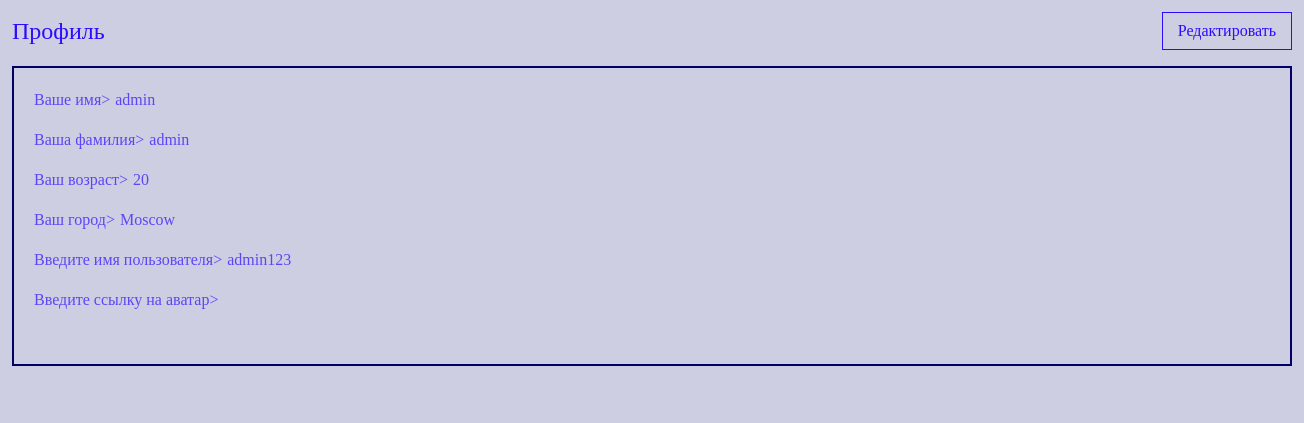
Test: features/EditableProfileCard › One error check
Click the button with test id "EditableProfileCardHeader.EditBtn": (1227, 31) [1162,12,1292,50]
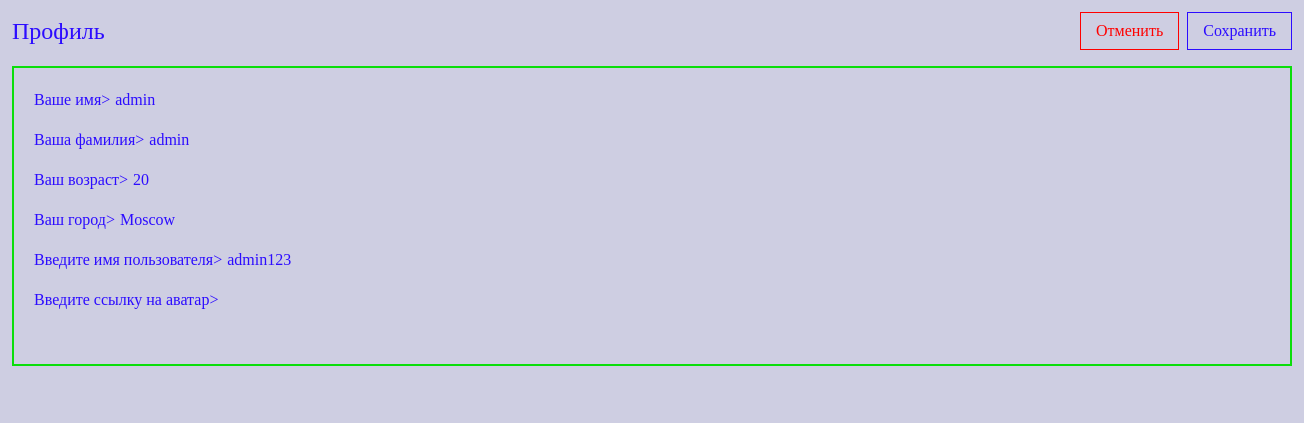
Clear the field with test id "ProfileCard.firstname": (215, 100) [115,88,315,112]
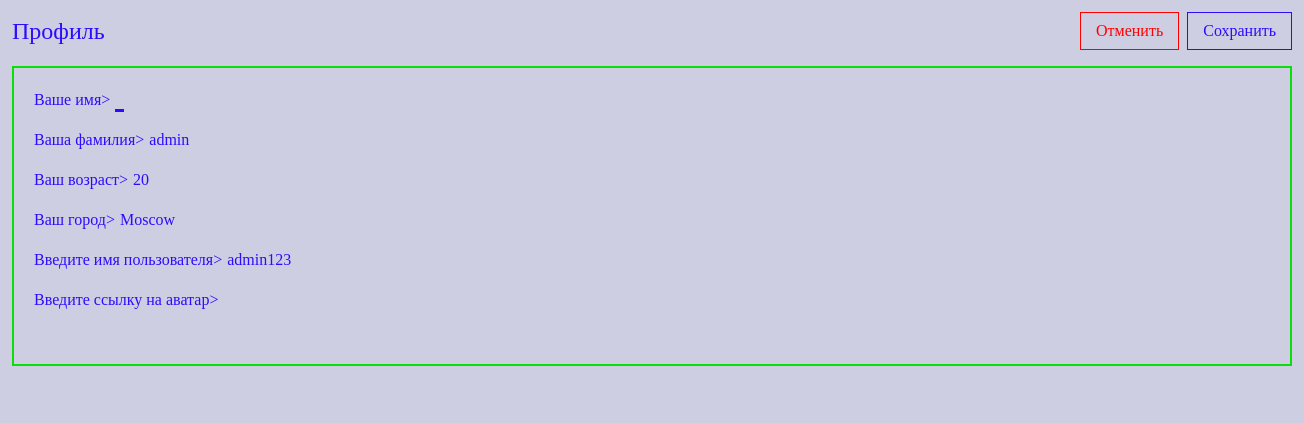
Click the button with test id "EditableProfileCardHeader.SaveBtn": (1240, 31) [1187,12,1292,50]
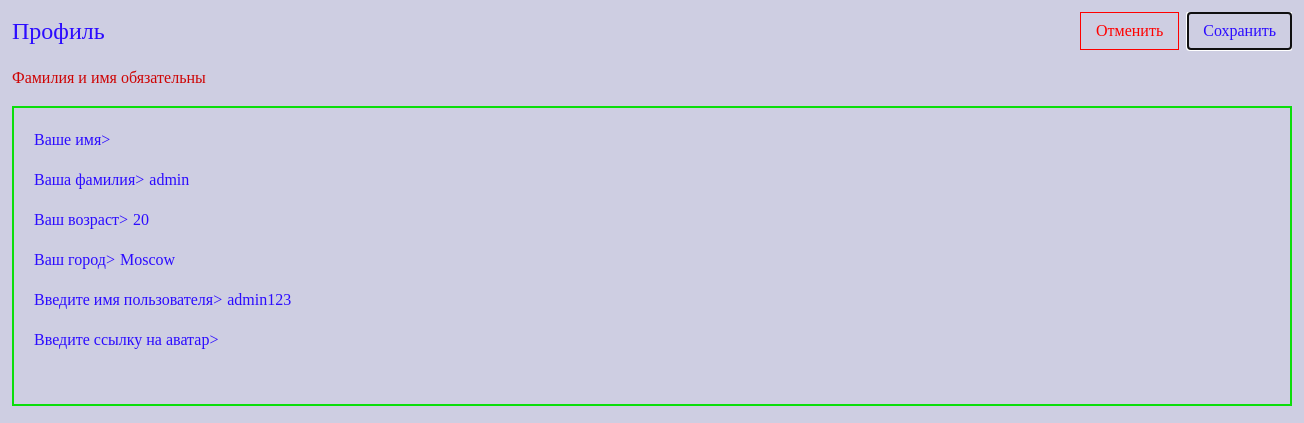
Result: the text "Фамилия и имя обязательны" is shown at [12,66,206,90]
